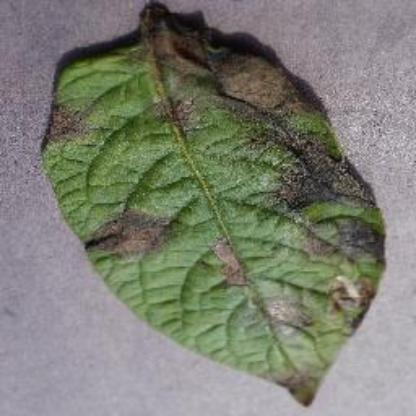Late-Blight: (39, 15, 393, 405)
